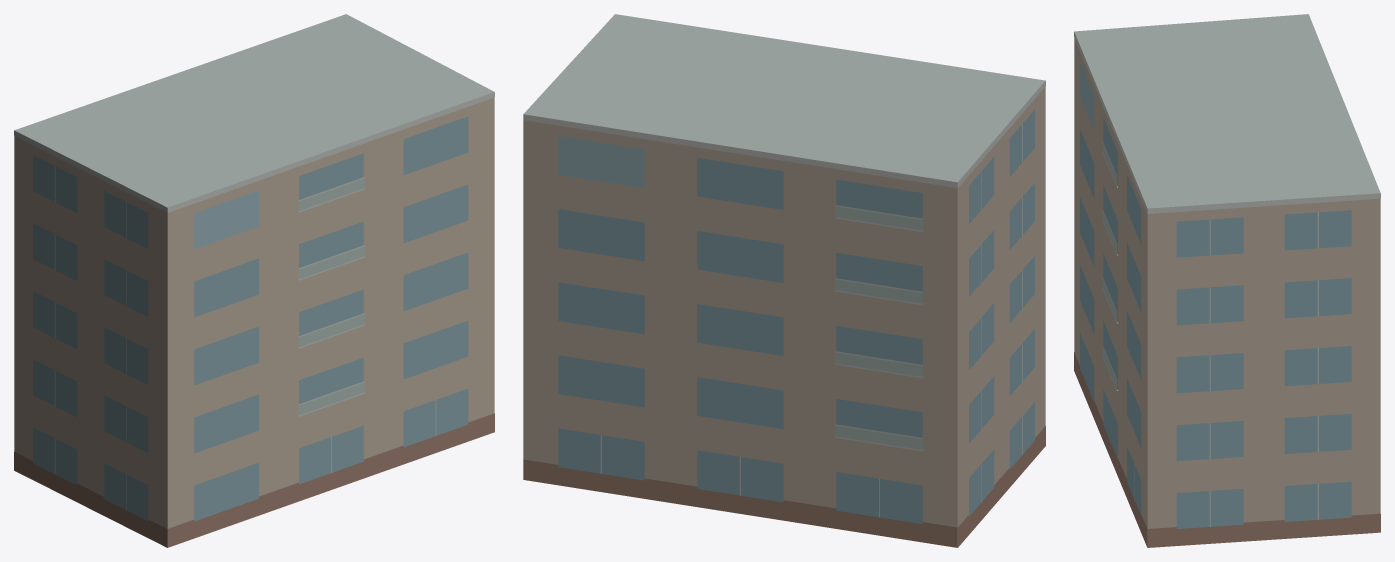
Rendered from survey-upis-32750345.glb.
3 renders of one model, left to right at view 1: azimuth 30°, elevation 25°; view 2: azimuth 150°, elevation 25°; view 3: azimuth 270°, elevation 25°, orthographic. The views are drawn at different scales.
Visible parts, largest first — view 1: survey-upis-32750345.tmp; view 2: survey-upis-32750345.tmp; view 3: survey-upis-32750345.tmp.
Boxes of the visible parts, <box> form: survey-upis-32750345.tmp: <box>14,14,494,547</box>; survey-upis-32750345.tmp: <box>523,14,1045,547</box>; survey-upis-32750345.tmp: <box>1074,14,1380,547</box>.
Size of the model in its own units: 18.76 by 15.25 by 12.5.
